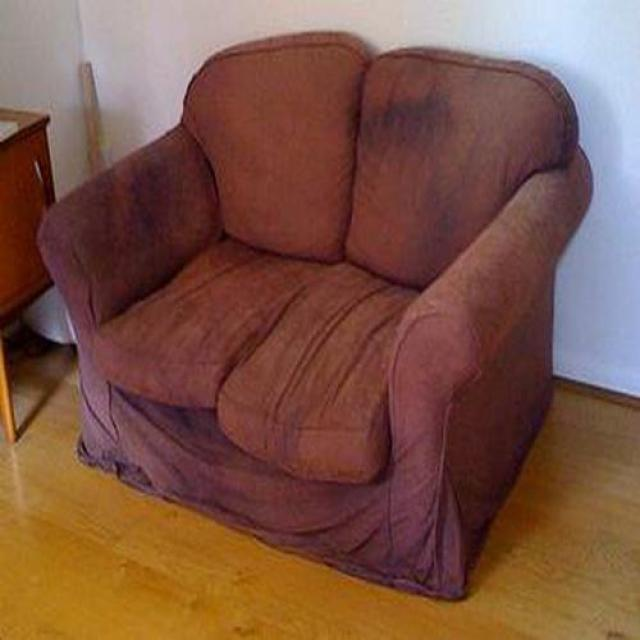sofa: (37, 29, 594, 604)
